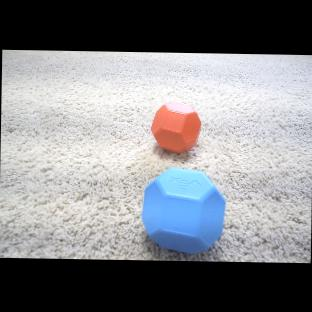V5_BLUE: (141, 166, 226, 254)
V5_RED: (150, 101, 201, 153)
